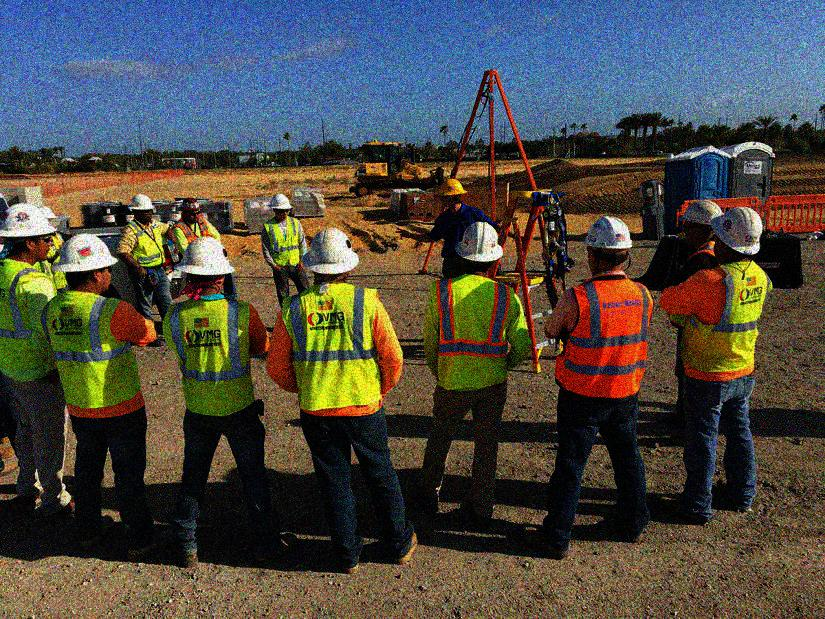helmet: (50, 234, 121, 297), (173, 236, 238, 297), (301, 226, 361, 285), (1, 202, 55, 260), (710, 206, 762, 264), (454, 221, 506, 279), (585, 216, 635, 275), (676, 199, 723, 247), (435, 177, 469, 211), (126, 192, 157, 224), (175, 195, 203, 223), (267, 193, 294, 221), (34, 204, 56, 229)
